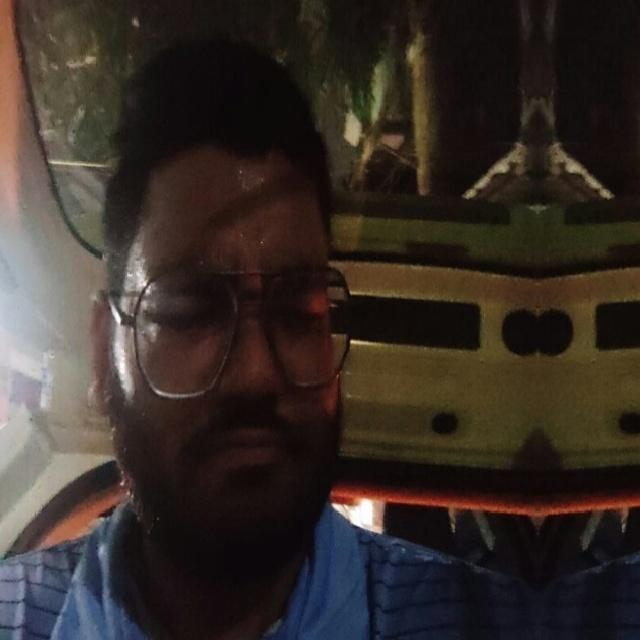Disgust: (55, 110, 414, 576)
